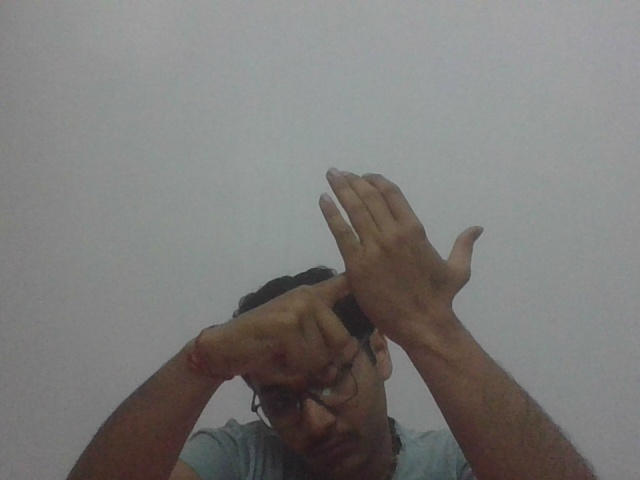R: (299, 161, 489, 364)
